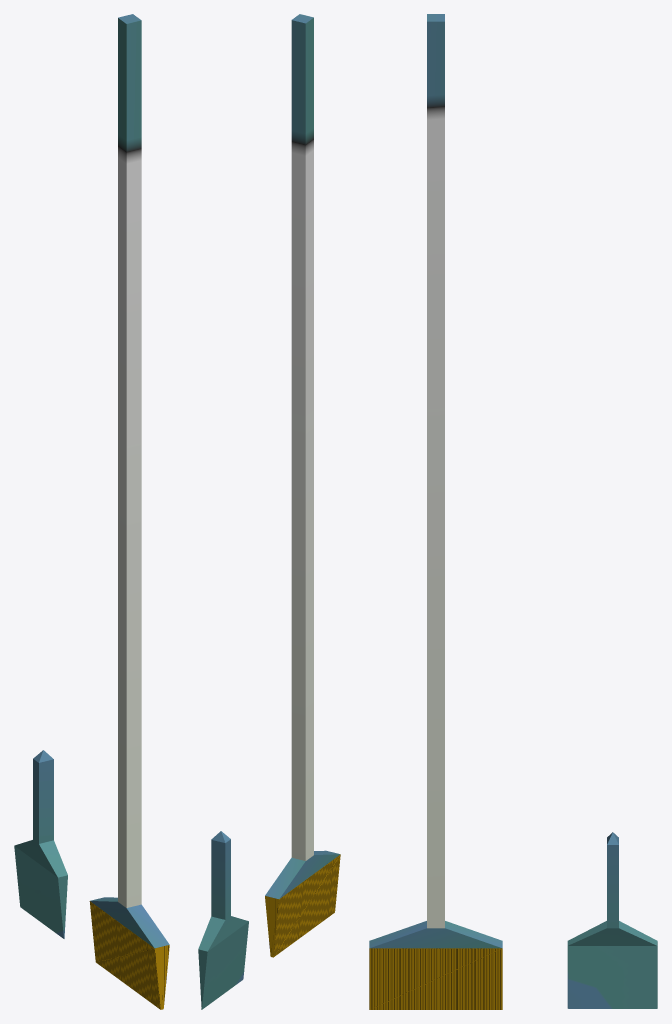
File: broomAndShovel.obj
The picture shows the model from 3 angles, left to right: view 1: azimuth 30°, elevation 25°; view 2: azimuth 150°, elevation 25°; view 3: azimuth 270°, elevation 25°; orthographic projection. The views are drawn at different scales.
Parts seen in each view (by area): view 1: Cubo; view 2: Cubo; view 3: Cubo.
Boxes of the visible parts, <box> form: Cubo: <box>14,14,169,1009</box>; Cubo: <box>198,14,340,1009</box>; Cubo: <box>369,14,657,1009</box>.
Size of the model in its own units: 0.2363 by 14.46 by 3.81.
